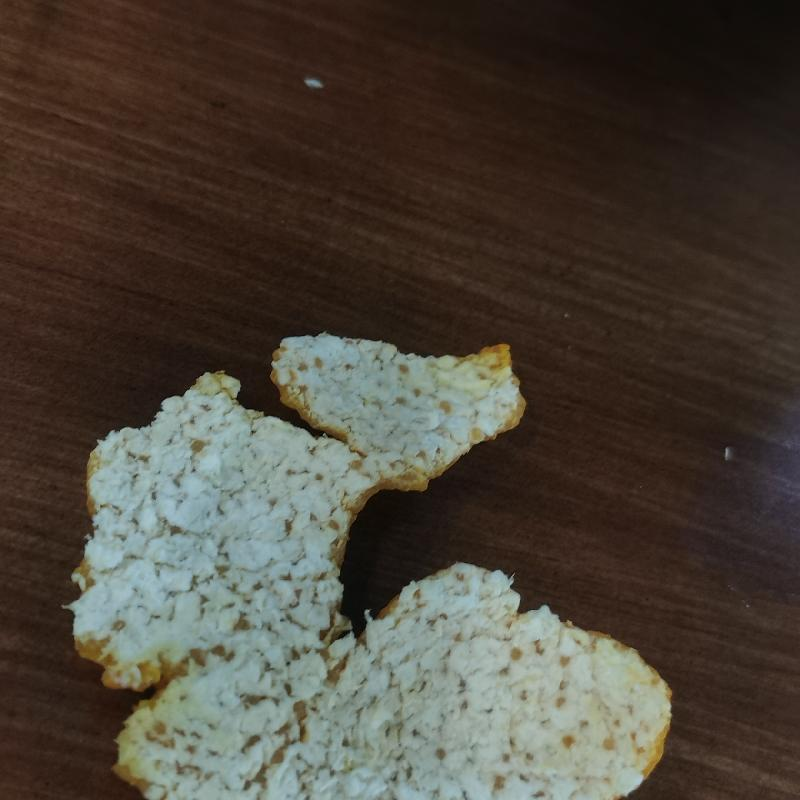orange: (74, 326, 674, 800)
